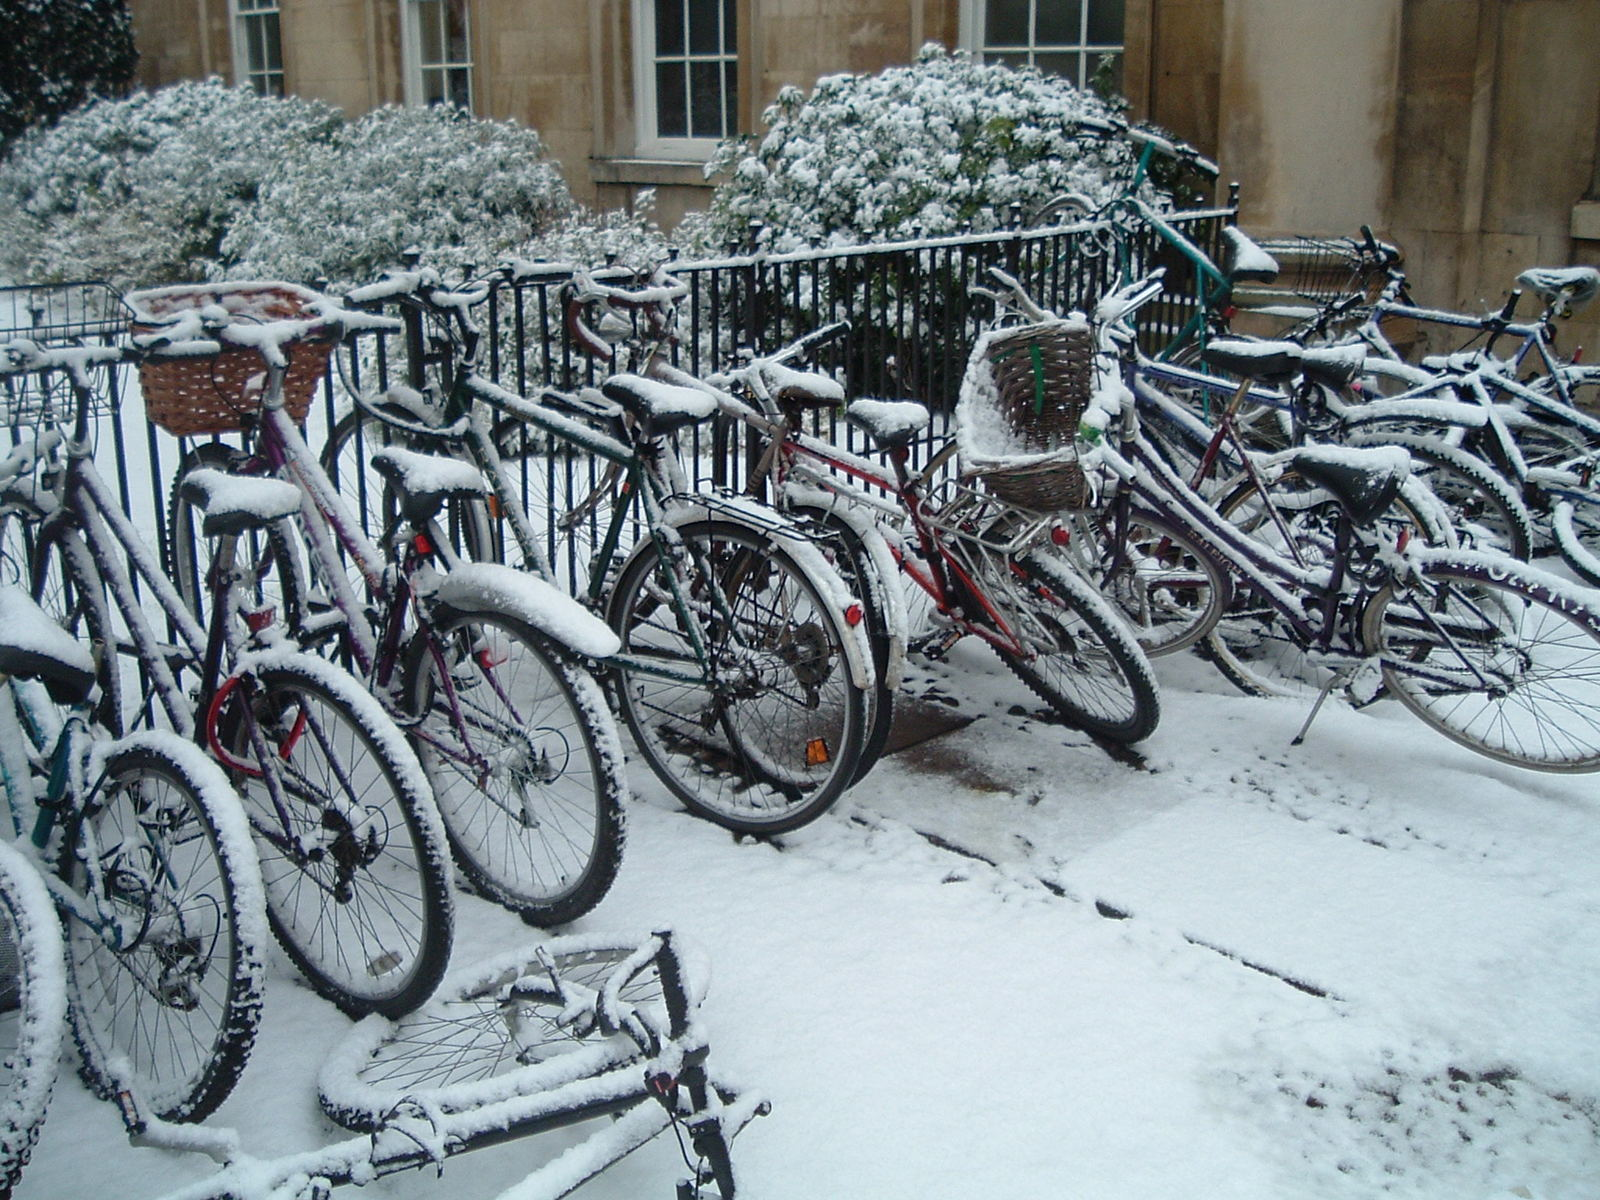Bicycle: (1, 35, 1584, 1199)
